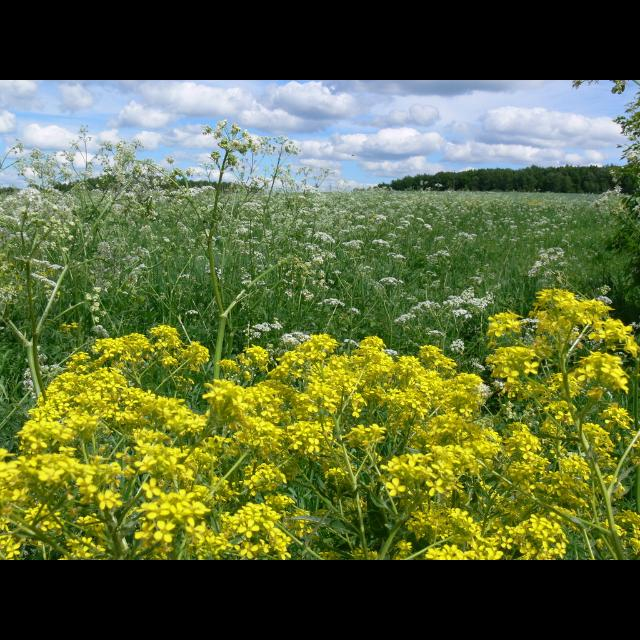Flower: (1, 280, 640, 560)
